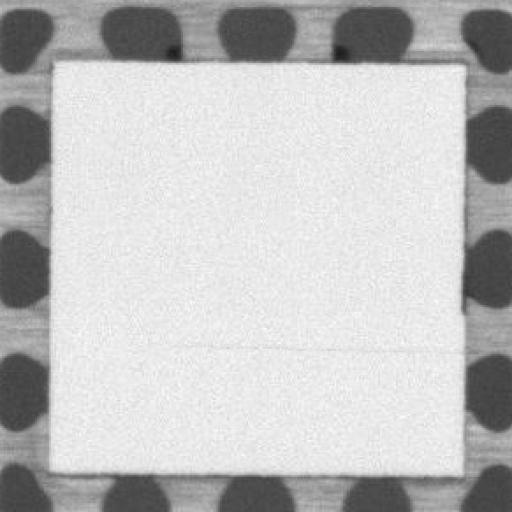DIE_CRACK: (180, 340, 460, 354)
